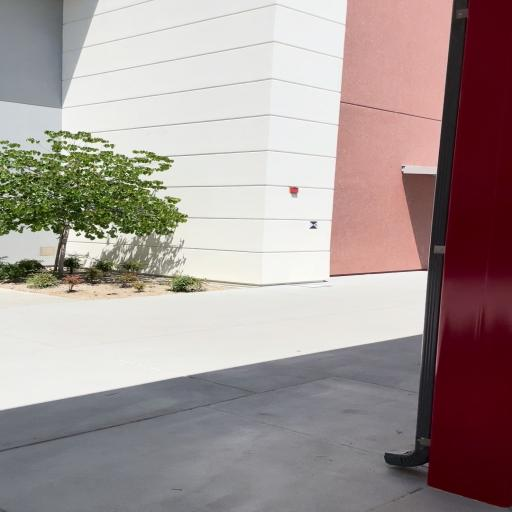target6: (309, 221, 318, 229)
